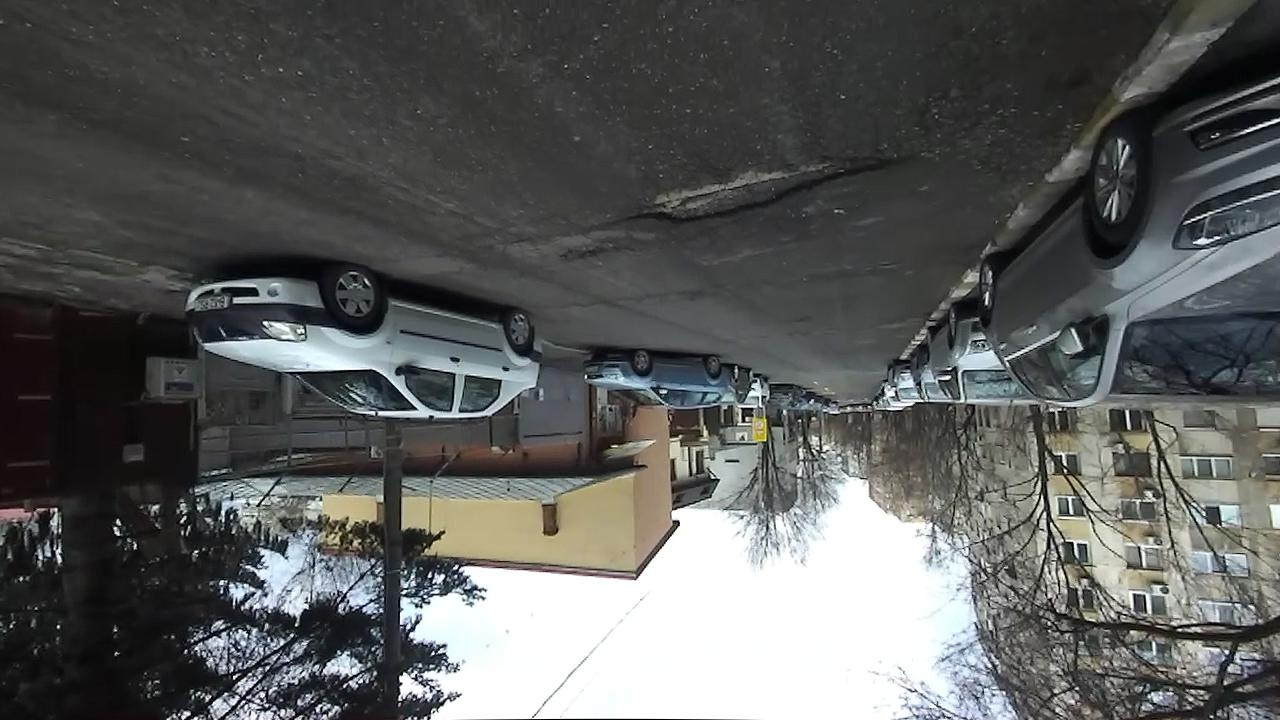pothole: (603, 159, 899, 226), (552, 238, 633, 267)
